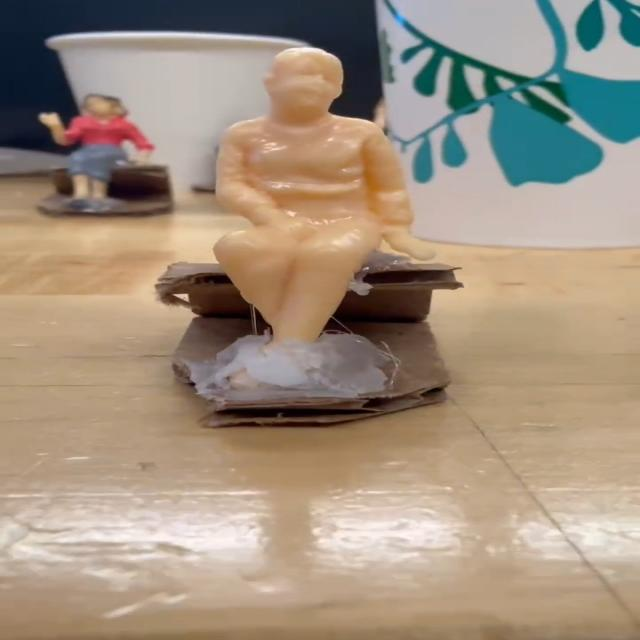Unauthorized: (173, 38, 498, 396)
